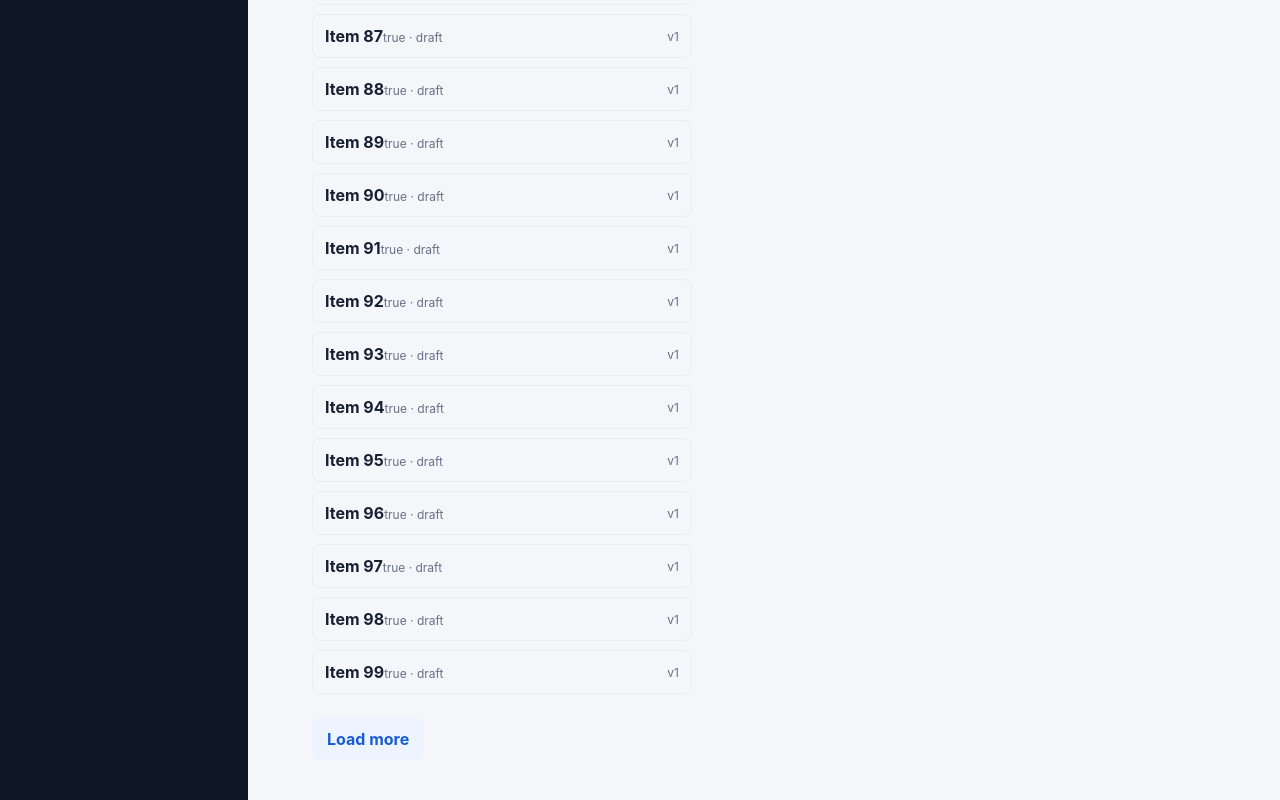
Test: D4 information flows › browses, loads more, and searches information in the selected project
(page scrolled)
Click the button "Load more" at (368, 739), box [312, 718, 424, 760]
(page scrolled)
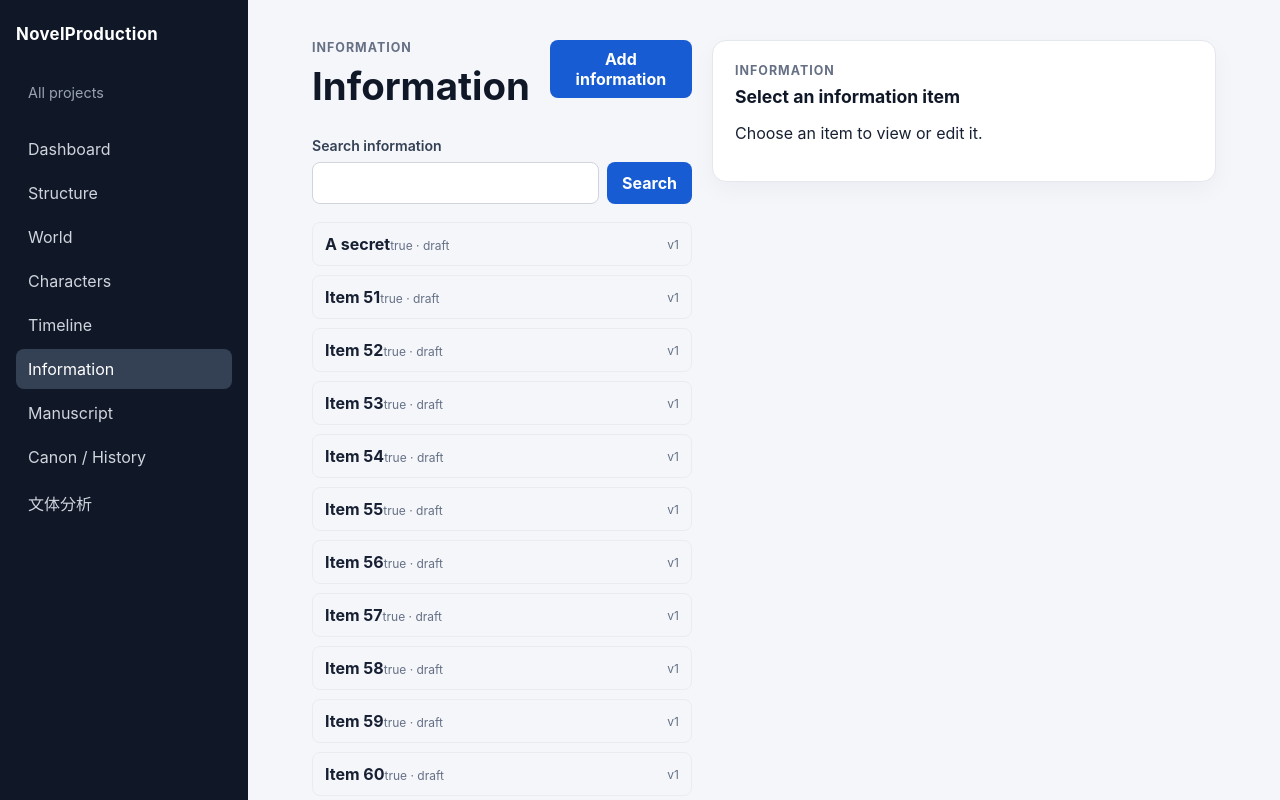
Type "secret" into the search field labelled "Search information" at (456, 183), box [312, 162, 599, 204]
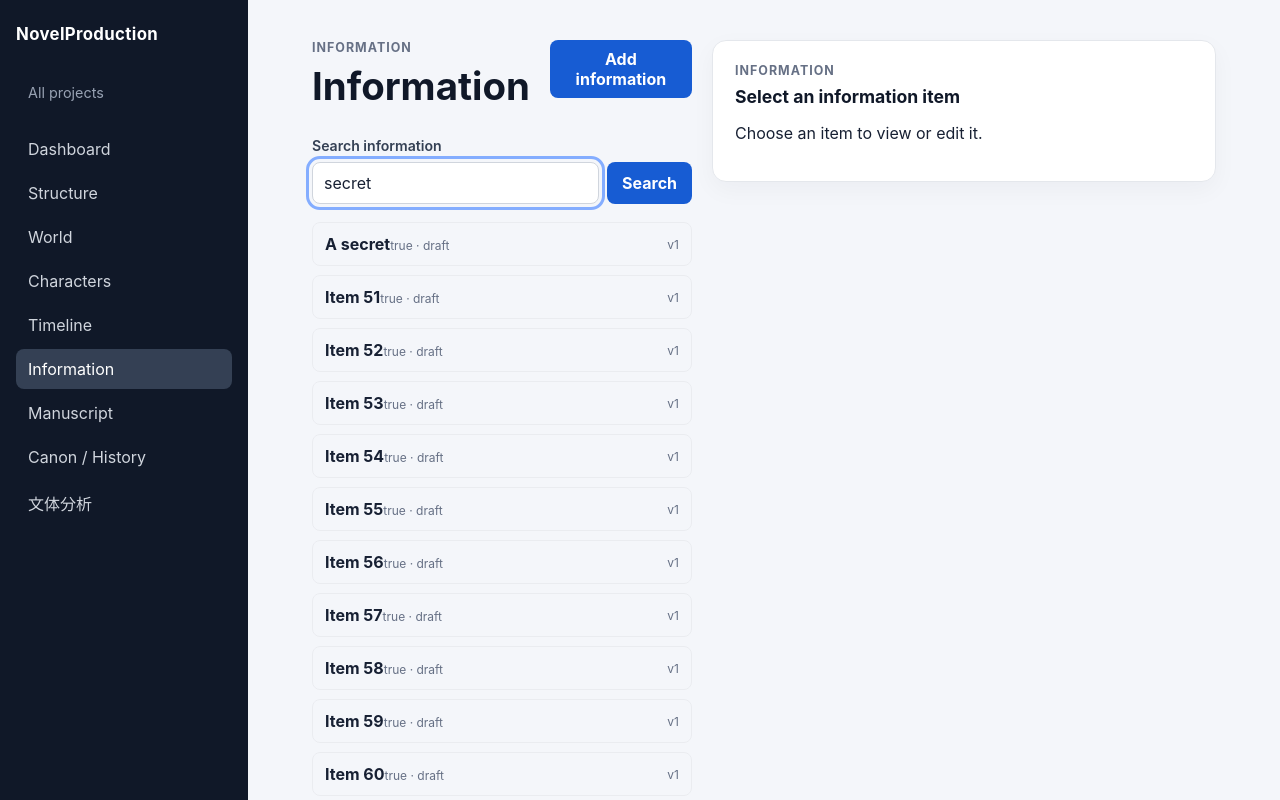
Click the button "Search" at (650, 183), box [607, 162, 692, 204]
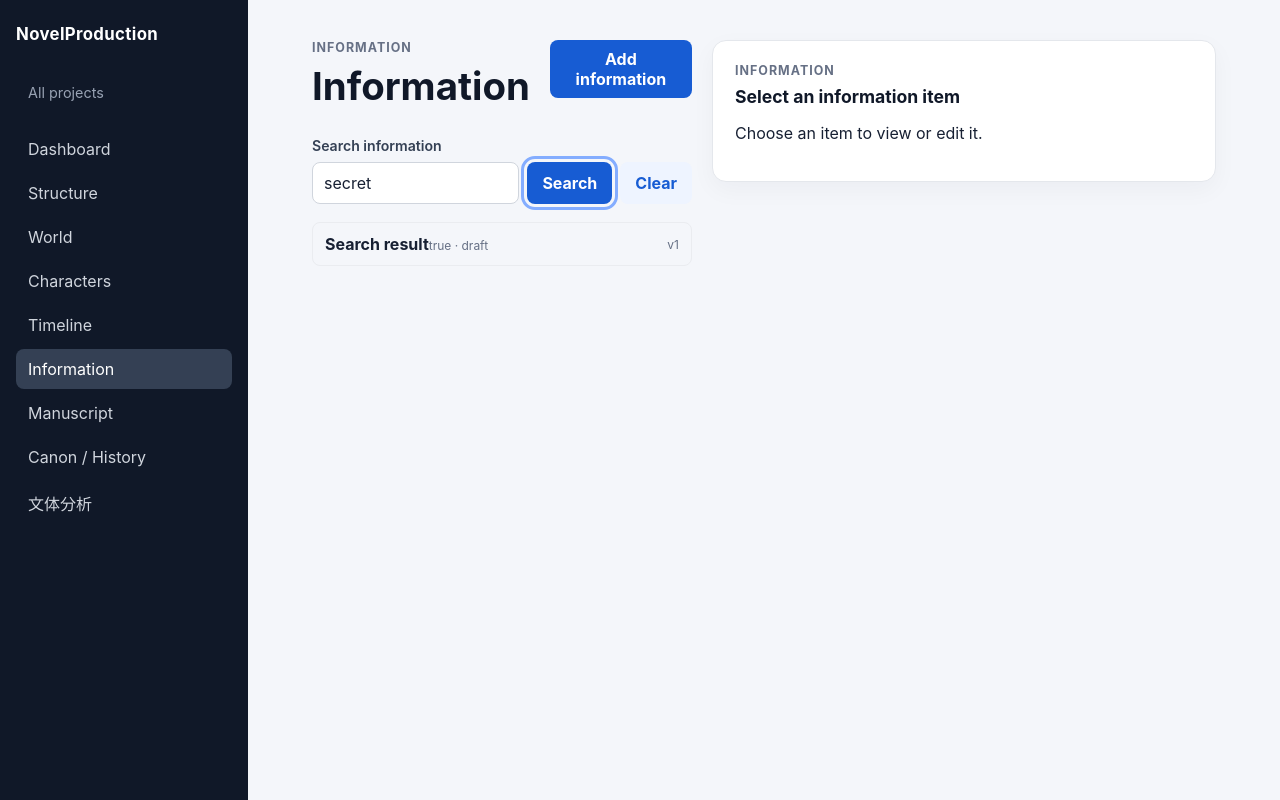
Expected: the text "Search result" is shown, [325, 234, 429, 254]
